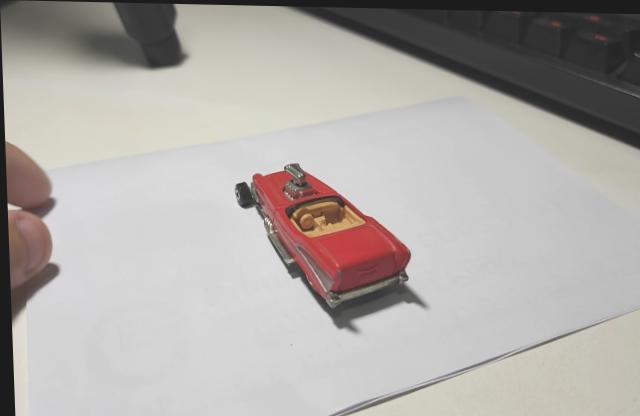03_V8: (232, 162, 425, 331)
